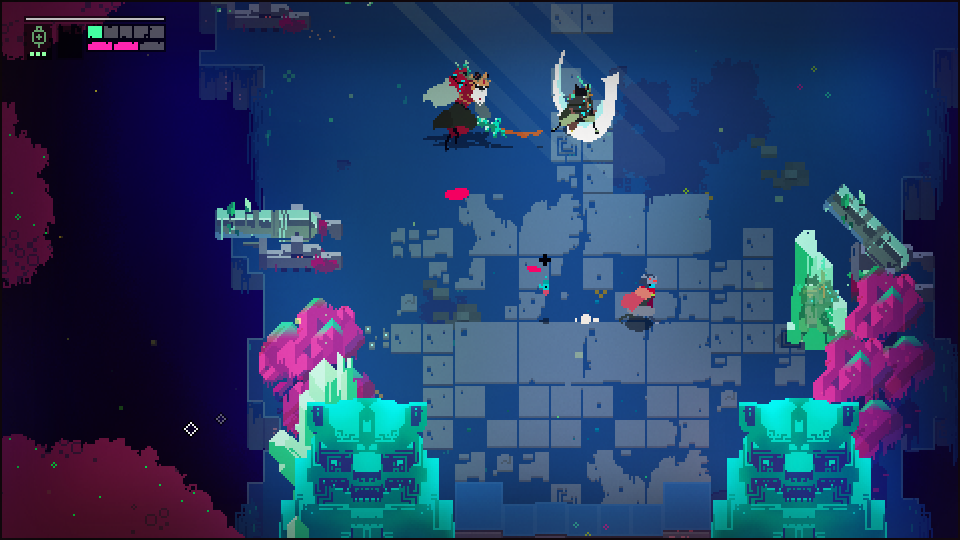hanged_man: (414, 54, 492, 139)
player: (627, 274, 656, 319)
